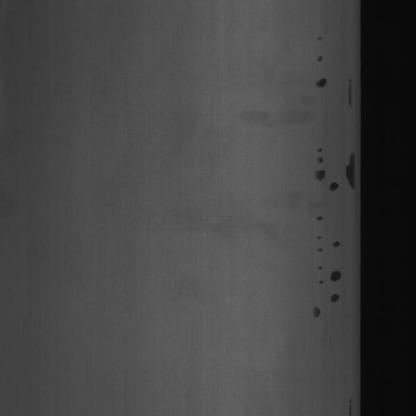oil_spot: (322, 237, 346, 322), (308, 223, 328, 320), (312, 34, 334, 97), (310, 144, 334, 187), (342, 142, 358, 191), (346, 65, 354, 112), (345, 389, 354, 416)
